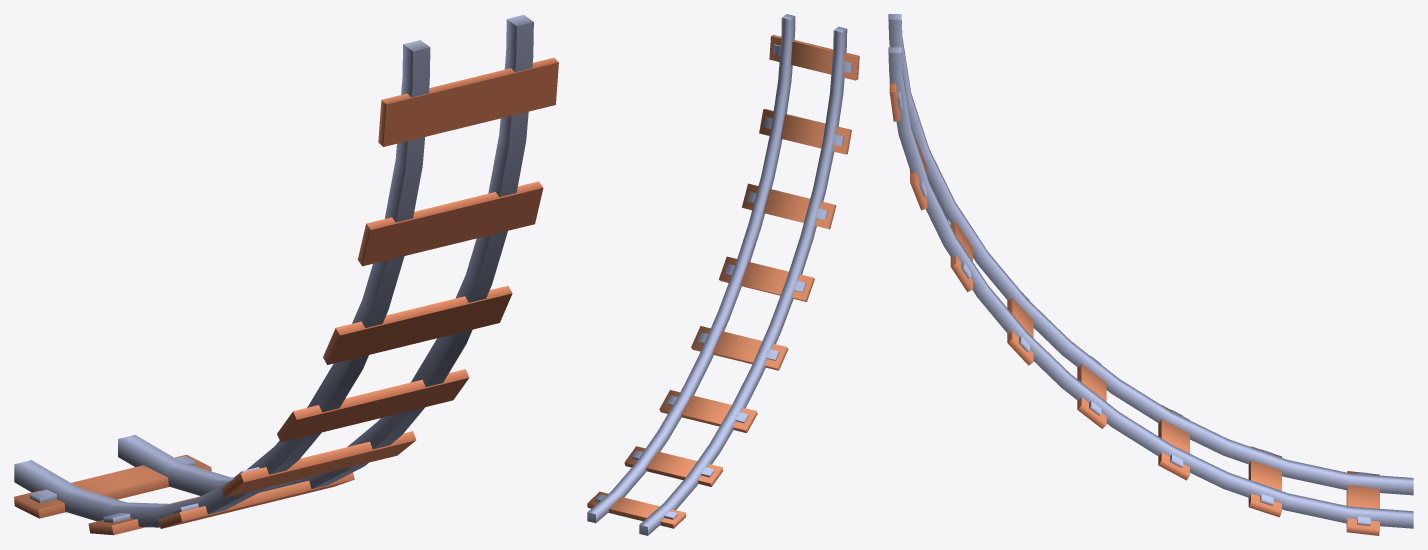
Rendered from railroad-straight-bend-large.glb.
3 views of the same model, side by side, from view 1: azimuth 30°, elevation 25°; view 2: azimuth 150°, elevation 25°; view 3: azimuth 270°, elevation 25° (orthographic). The views are drawn at different scales.
Parts seen in each view (by area): view 1: railroad-straight-bend-large; view 2: railroad-straight-bend-large; view 3: railroad-straight-bend-large.
Part boxes in pixels (x1=…): railroad-straight-bend-large: x1=14, y1=15, x2=558, y2=535; railroad-straight-bend-large: x1=587, y1=14, x2=859, y2=535; railroad-straight-bend-large: x1=888, y1=14, x2=1413, y2=535.
Bounding box in the file's own units: 1 × 4 × 4.
1 material, 1 textured.
